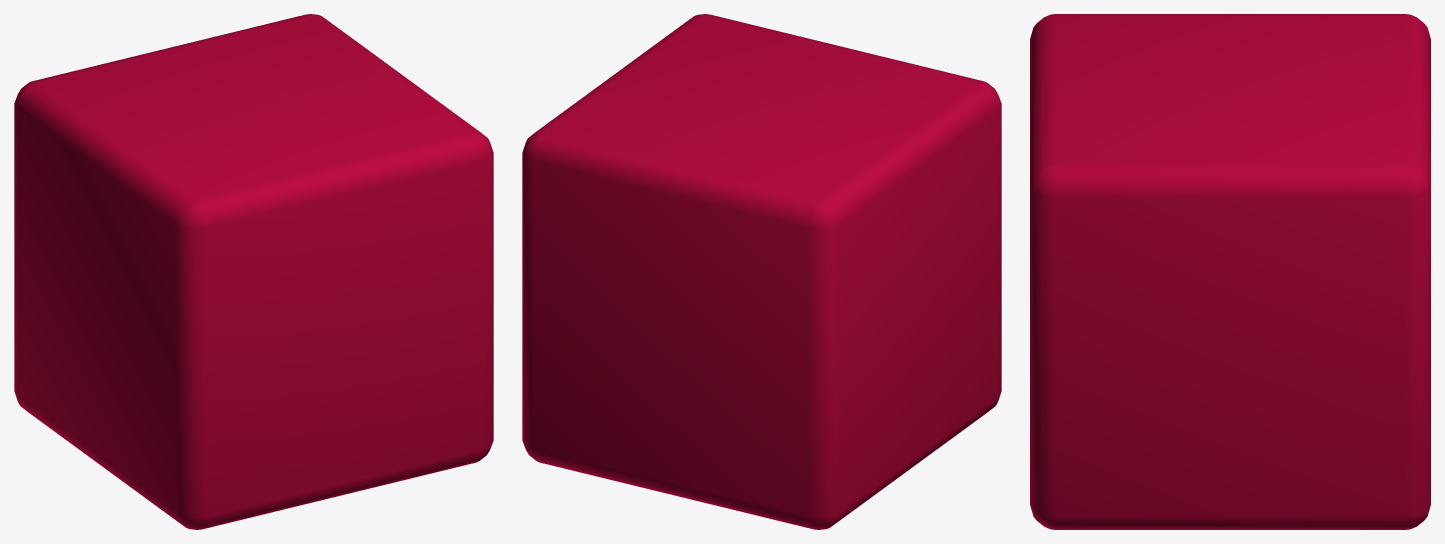
Rendered from Trash Crate 1.obj.
3 renders of one model, left to right at view 1: azimuth 30°, elevation 25°; view 2: azimuth 150°, elevation 25°; view 3: azimuth 270°, elevation 25°, orthographic. The views are drawn at different scales.
Parts seen in each view (by area): view 1: Trash Crate 1; view 2: Trash Crate 1; view 3: Trash Crate 1.
Part boxes in pixels (box(x1,y1,x2,y2)): Trash Crate 1: box(14, 14, 493, 529); Trash Crate 1: box(522, 14, 1001, 529); Trash Crate 1: box(1030, 14, 1430, 529).
Bounding box in the file's own units: 1 × 1 × 1.
